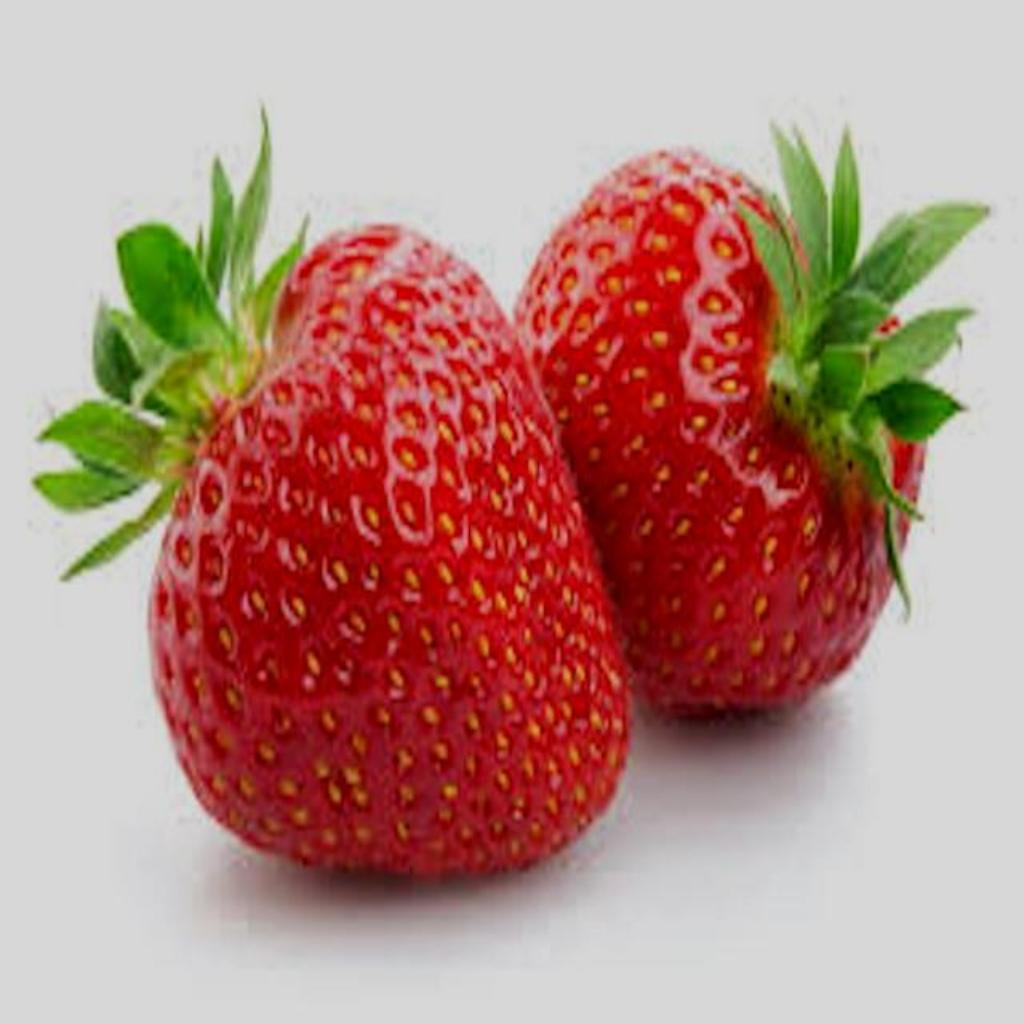strawberry: (36, 120, 628, 873), (516, 135, 986, 716)
